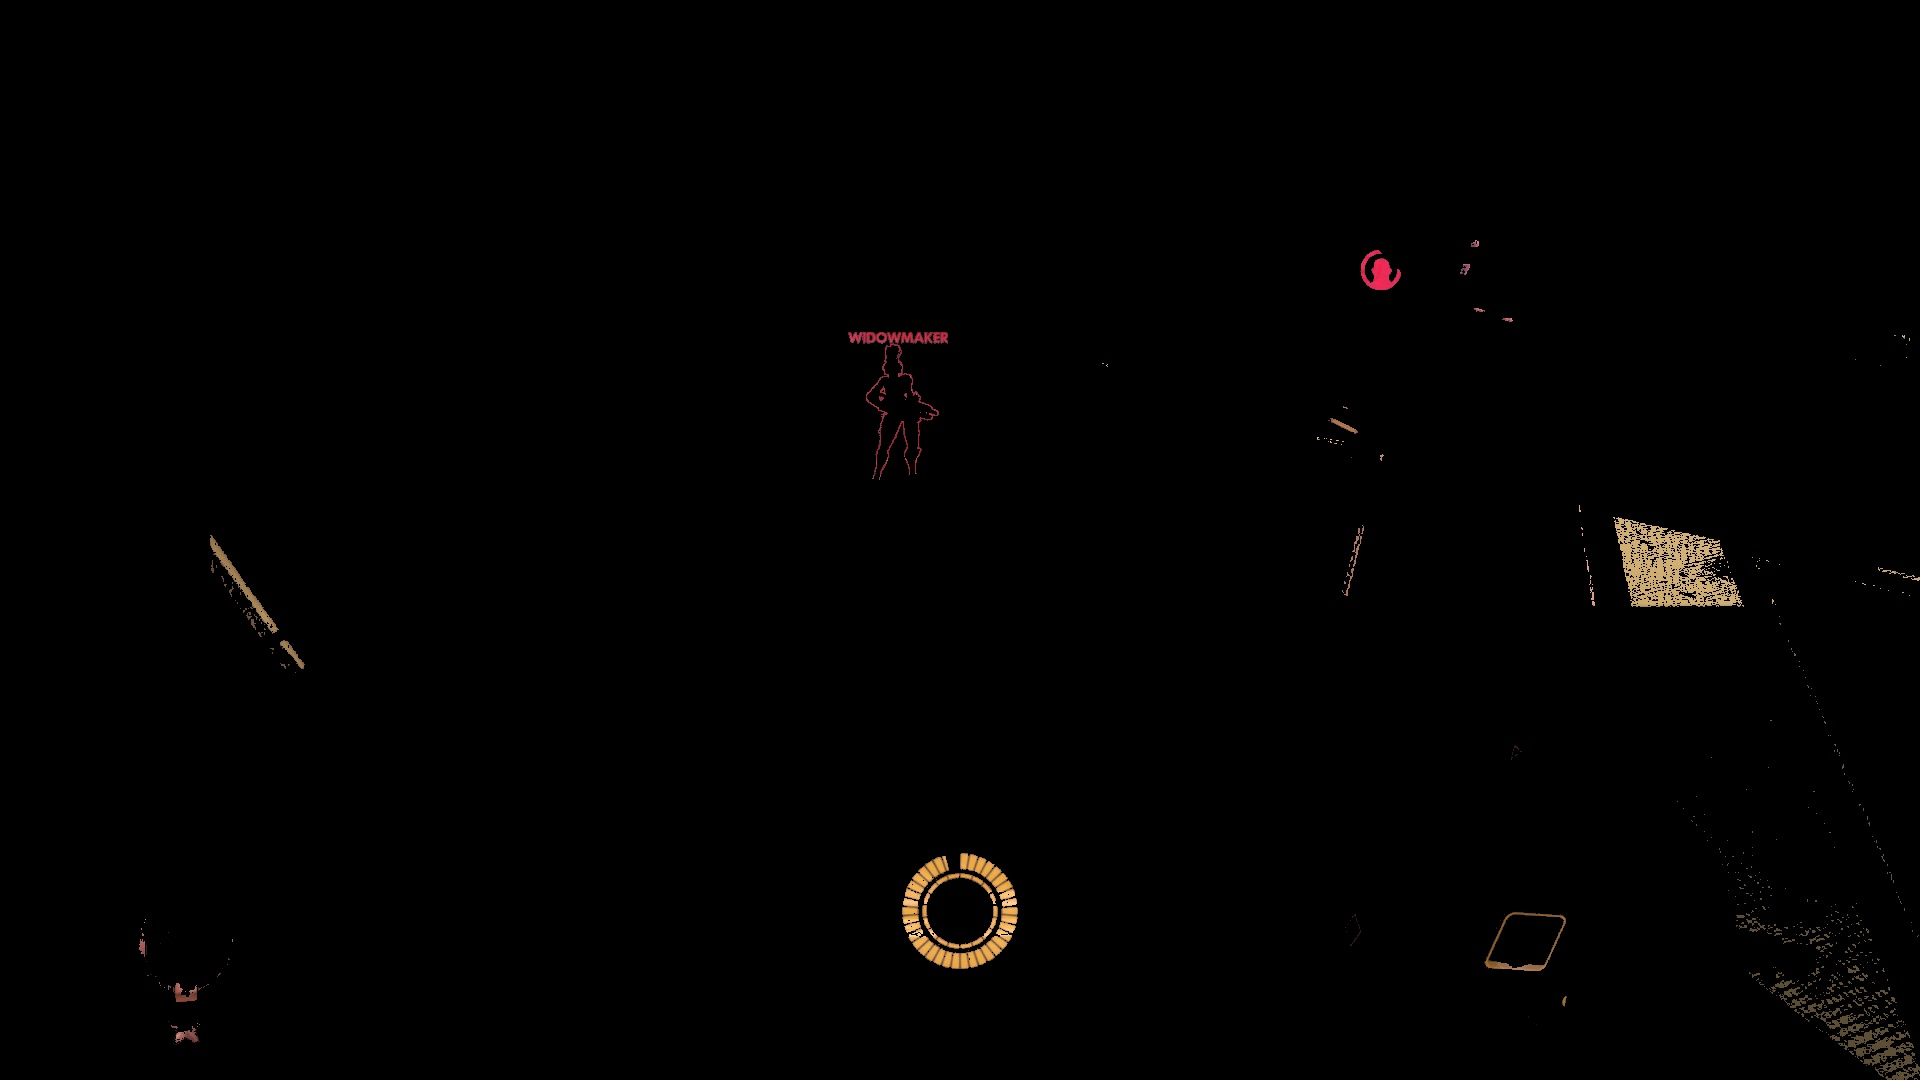widowmaker: (866, 345, 924, 497)
